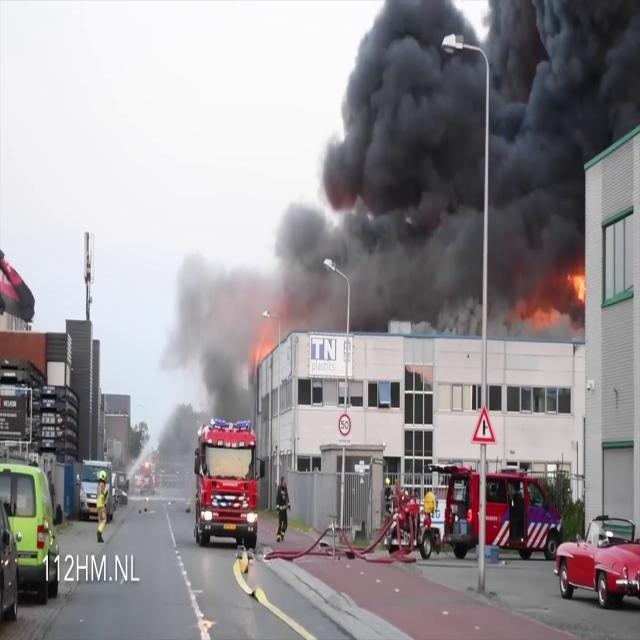Smoke: (301, 1, 640, 334), (162, 204, 304, 414)
